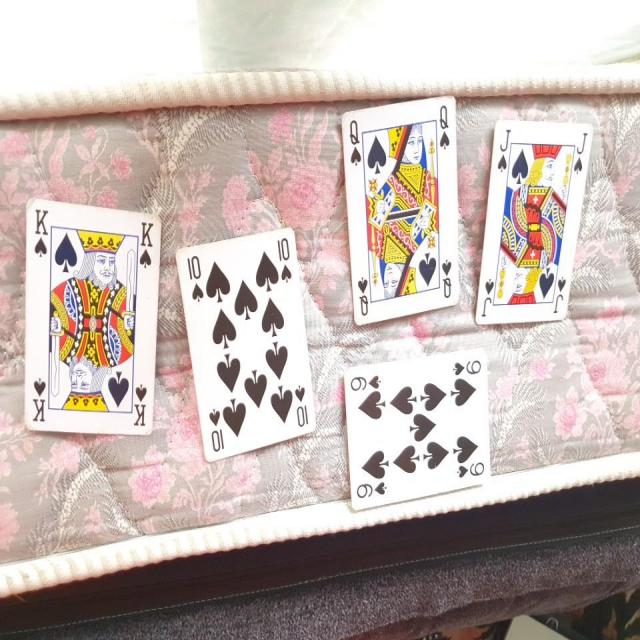10 Spades: (175, 226, 318, 461)
9 Spades: (333, 340, 496, 505)
J Spades: (473, 112, 594, 344)
K Spades: (17, 190, 170, 446)
Q Spades: (336, 87, 464, 330)
